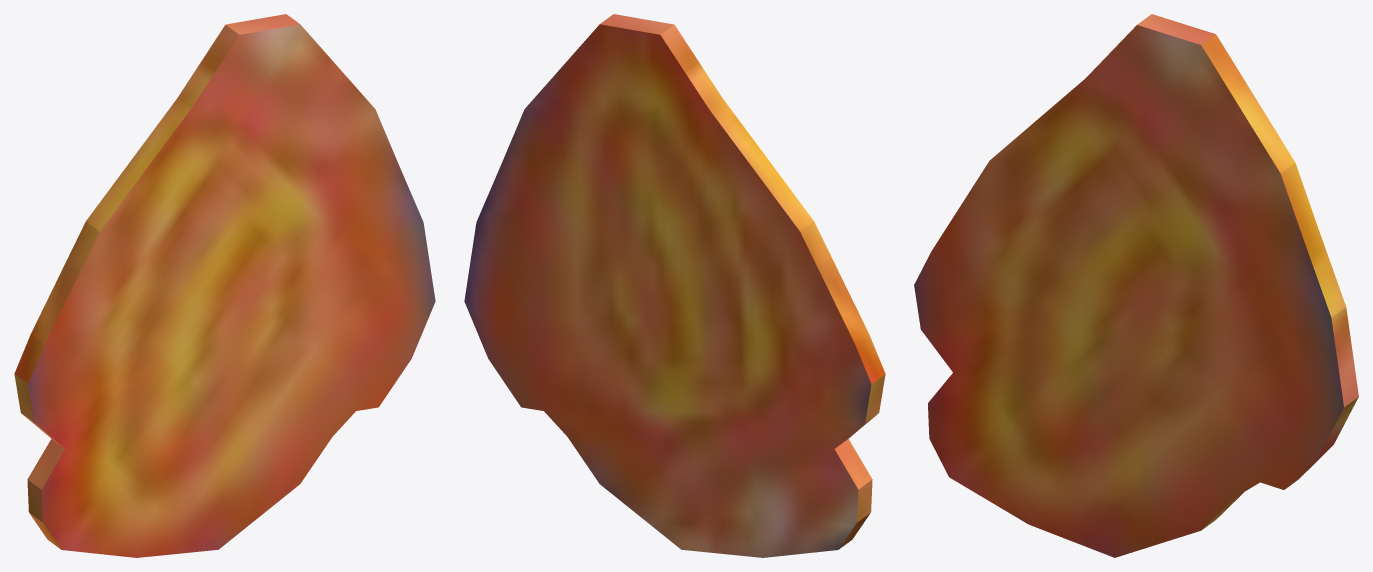
Rendered from Balao11.fbx.
3 renders of one model, left to right at view 1: azimuth 30°, elevation 25°; view 2: azimuth 150°, elevation 25°; view 3: azimuth 330°, elevation 25°, orthographic. The views are drawn at different scales.
Visible parts, largest first — view 1: Circle.012; view 2: Circle.012; view 3: Circle.012.
Part boxes in pixels (box(x1,y1,x2,y2)): Circle.012: box(14, 14, 435, 557); Circle.012: box(464, 14, 885, 557); Circle.012: box(914, 14, 1358, 557).
Bounding box in the file's own units: 18.45 × 22.07 × 1.1.
Materials: 1 (1 with a texture image).
